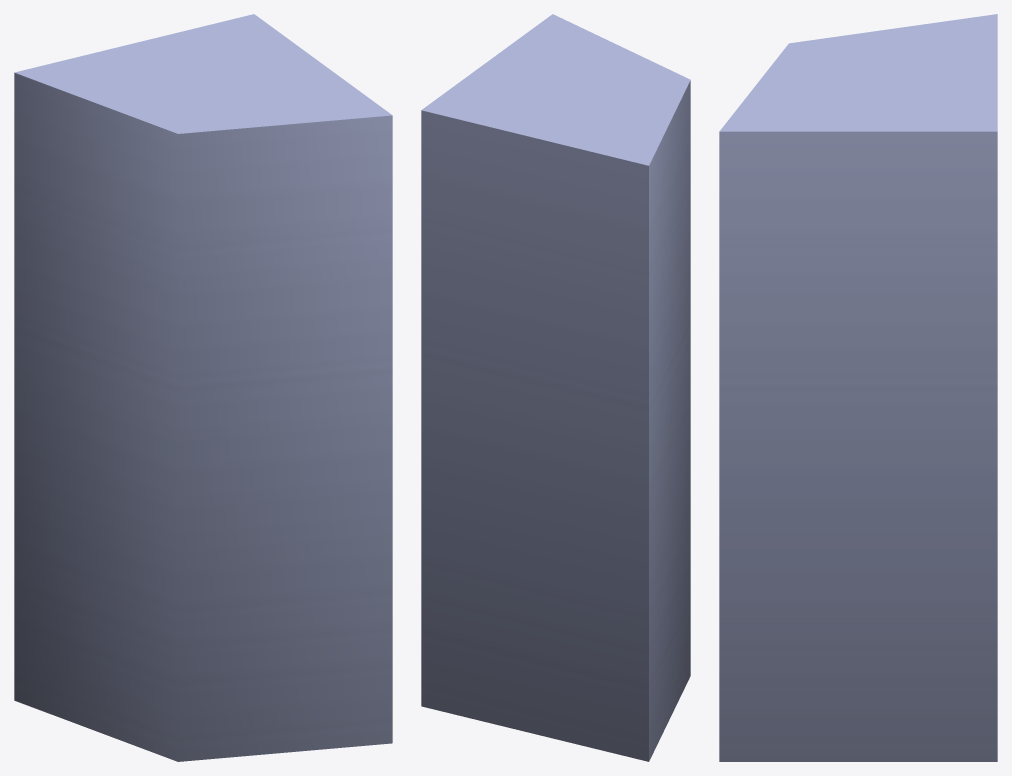
The model's file is column-rounded-low.fbx.
The picture shows the model from 3 angles, left to right: view 1: azimuth 30°, elevation 25°; view 2: azimuth 150°, elevation 25°; view 3: azimuth 270°, elevation 25°; orthographic projection. The views are drawn at different scales.
Parts seen in each view (by area): view 1: column-rounded-low; view 2: column-rounded-low; view 3: column-rounded-low.
Part boxes in pixels (<box>): column-rounded-low: <box>14,14,392,761</box>; column-rounded-low: <box>421,14,690,761</box>; column-rounded-low: <box>719,14,997,761</box>.
Bounding box in the file's own units: 20 × 50 × 20.
